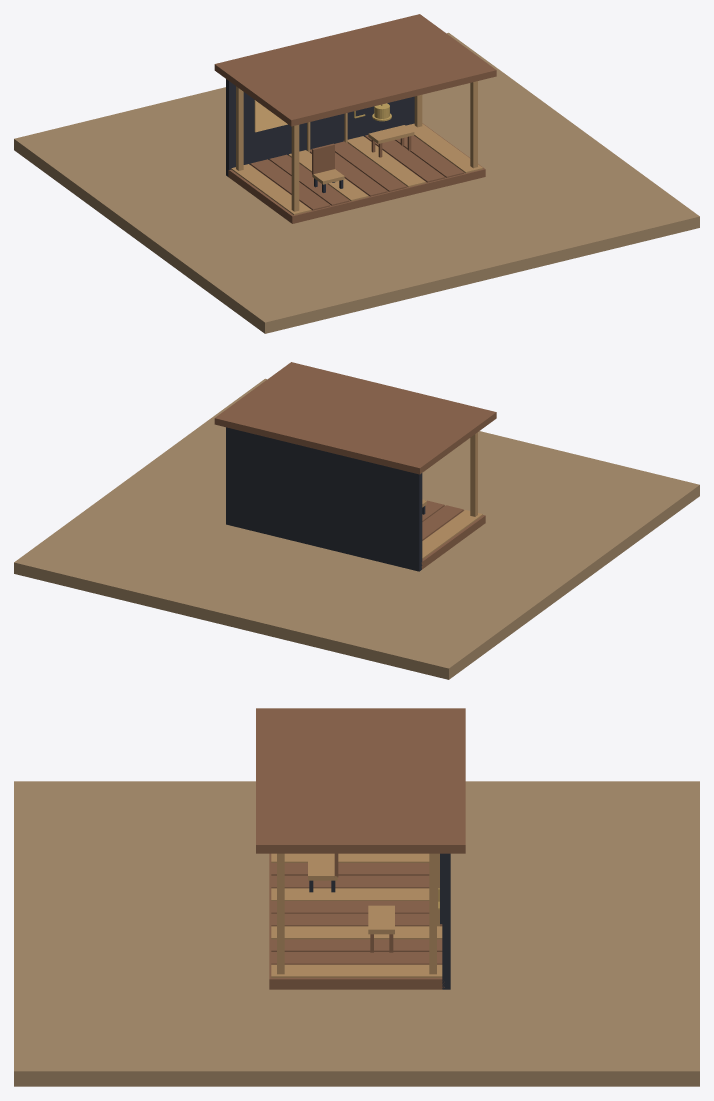
File: porch-reexport-r1.glb
The picture shows the model from 3 angles, top to bottom: view 1: azimuth 30°, elevation 25°; view 2: azimuth 150°, elevation 25°; view 3: azimuth 270°, elevation 25°; orthographic projection. The views are drawn at different scales.
Parts seen in each view (by area): view 1: Desert, Porch roof, House wall, Porch platform, Floorboard 6, Floorboard 5, Floorboard 9, Floorboard 0, Floorboard 1, Floorboard 7, Floorboard 2, Door opening (+9 smaller); view 2: Desert, House wall, Porch roof, Floorboard 0, Porch platform, Pillar -3.7-2, Floorboard 1; view 3: Desert, Porch roof, Porch platform, Floorboard 9, Floorboard 8, Floorboard 7, Floorboard 6, Floorboard 3, Floorboard 2, Floorboard 4, Floorboard 5, Floorboard 1 (+5 smaller).
Boxes of the visible parts, <box> form: Desert: <box>14,32,699,333</box>; Porch roof: <box>214,14,496,126</box>; House wall: <box>226,79,414,176</box>; Porch platform: <box>228,123,485,223</box>; Floorboard 6: <box>347,136,425,187</box>; Floorboard 5: <box>334,141,406,191</box>; Floorboard 9: <box>406,123,482,173</box>; Floorboard 0: <box>231,164,311,215</box>; Floorboard 1: <box>250,159,330,210</box>; Floorboard 7: <box>365,135,444,182</box>; Floorboard 2: <box>269,154,349,205</box>; Door opening: <box>310,114,343,149</box>; Desert: <box>14,378,699,679</box>; House wall: <box>226,427,422,571</box>; Porch roof: <box>214,362,496,474</box>; Floorboard 0: <box>422,510,482,559</box>; Porch platform: <box>421,505,485,569</box>; Pillar -3.7-2: <box>470,432,477,516</box>; Floorboard 1: <box>422,505,463,540</box>; Desert: <box>14,781,699,1086</box>; Porch roof: <box>256,708,465,853</box>; Porch platform: <box>269,853,444,989</box>; Floorboard 9: <box>271,964,442,977</box>; Floorboard 8: <box>271,952,442,964</box>; Floorboard 7: <box>271,939,442,951</box>; Floorboard 6: <box>271,926,442,939</box>; Floorboard 3: <box>271,888,429,900</box>; Floorboard 2: <box>271,875,429,888</box>; Floorboard 4: <box>271,901,429,913</box>; Floorboard 5: <box>271,913,442,926</box>; Floorboard 1: <box>271,863,429,875</box>.
Size of the model in its own units: 18 by 4.78 by 18.
